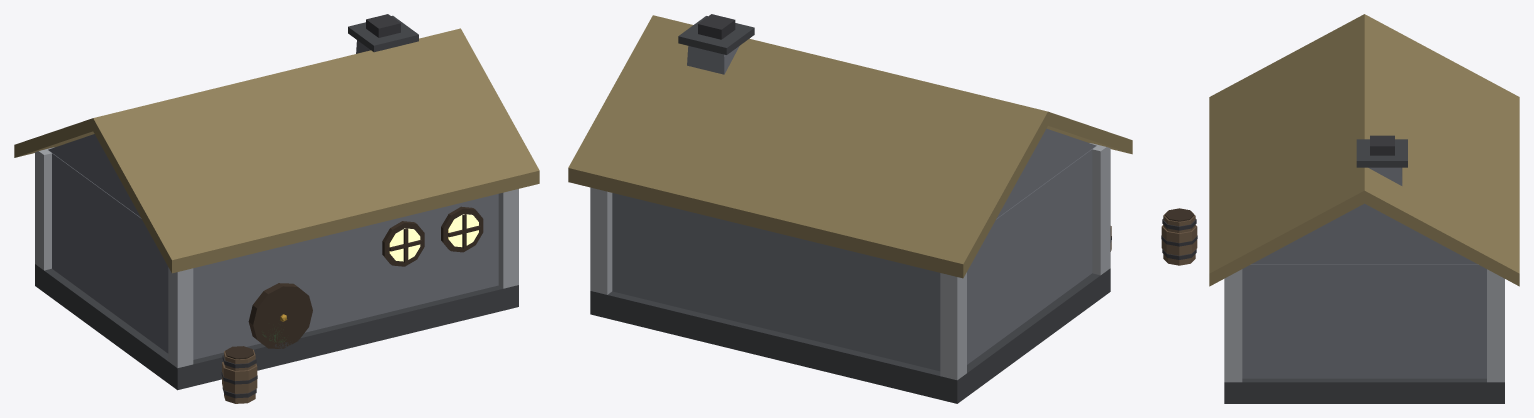
The model's file is bree_house_hobbit_2.glb.
3 renders of one model, left to right at view 1: azimuth 30°, elevation 25°; view 2: azimuth 150°, elevation 25°; view 3: azimuth 270°, elevation 25°, orthographic. The views are drawn at different scales.
Parts seen in each view (by area): view 1: bree_house_hobbit_2; view 2: bree_house_hobbit_2; view 3: bree_house_hobbit_2.
Part boxes in pixels (x1,y1,x2,y2): bree_house_hobbit_2: (14, 14, 539, 403); bree_house_hobbit_2: (568, 14, 1132, 403); bree_house_hobbit_2: (1161, 14, 1519, 403).
Size of what is drawn, in the model's own units: 7 by 4.37 by 6.01.
